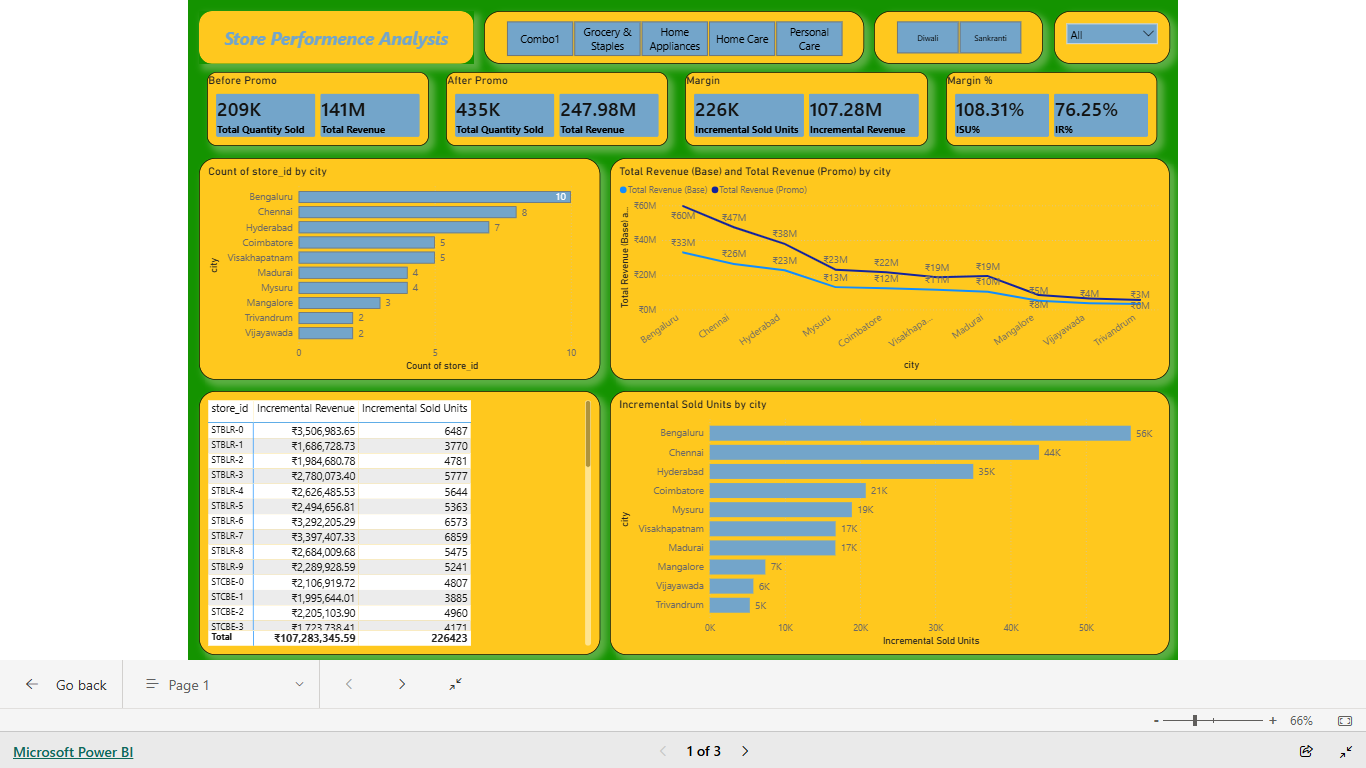

Layout of this report page (visuals, bound fields, positions):
{"tool":"powerbi","page":{"name":"Page 1","canvas":[1500,1000],"ordinal":0},"visuals":[{"type":"cardVisual","title":"Before Promo","fields":{"Data":["New_measures.Total Quantity (Base)","New_measures.Total Revenue (Base)"]},"box":[28.3,108.3,336,112],"z":0},{"type":"shape","box":[16,16,416,80],"z":1000},{"type":"slicer","fields":{"Values":["dim_products.category"]},"box":[448,16,576,80],"z":2000},{"type":"slicer","fields":{"Values":["dim_stores.city"]},"box":[1312,16,176,80],"z":3000},{"type":"slicer","fields":{"Values":["dim_campaigns.campaign_name"]},"box":[1040,16,256,80],"z":4000},{"type":"cardVisual","title":"After Promo","fields":{"Data":["New_measures.Total Quantity (Promo)","New_measures.Total Revenue (Promo)"]},"box":[391,108.3,336,112],"z":5000},{"type":"cardVisual","title":"Margin","fields":{"Data":["New_measures.Incremental Sold Units","New_measures.Incremental Revenue"]},"box":[753.7,108.3,368,112],"z":6000},{"type":"cardVisual","title":"Margin %","fields":{"Data":["New_measures.ISU%","New_measures.IR%"]},"box":[1148.3,108.3,320,112],"z":7000},{"type":"lineChart","fields":{"Category":["dim_stores.city"],"Y":["New_measures.Total Revenue (Base)","New_measures.Total Revenue (Promo)"]},"box":[640,240,848,336],"z":8000},{"type":"clusteredBarChart","fields":{"Category":["dim_stores.city"],"Y":["Count(dim_stores.store_id)"]},"box":[16,240,608,336],"z":9000},{"type":"clusteredBarChart","fields":{"Category":["dim_stores.city"],"Y":["New_measures.Incremental Sold Units"]},"box":[640,592,848,400],"z":10000},{"type":"pivotTable","fields":{"Rows":["dim_stores.store_id"],"Values":["New_measures.Incremental Revenue","New_measures.Incremental Sold Units"]},"box":[16,592,608,400],"z":11000}]}

Visuals, with their boxes on the page's 1500x1000 design canvas (x1, y1, x2, y2). These are canvas units, not pixel positions in the 1366x768 screenshot, which may show the page scaled, cropped or inside an application window:
"Before Promo" cardVisual: x1=28, y1=108, x2=364, y2=220
shape: x1=16, y1=16, x2=432, y2=96
slicer - dim_products.category: x1=448, y1=16, x2=1024, y2=96
slicer - dim_stores.city: x1=1312, y1=16, x2=1488, y2=96
slicer - dim_campaigns.campaign_name: x1=1040, y1=16, x2=1296, y2=96
"After Promo" cardVisual: x1=391, y1=108, x2=727, y2=220
"Margin" cardVisual: x1=754, y1=108, x2=1122, y2=220
"Margin %" cardVisual: x1=1148, y1=108, x2=1468, y2=220
lineChart - dim_stores.city x New_measures.Total Revenue (Base): x1=640, y1=240, x2=1488, y2=576
clusteredBarChart - dim_stores.city x Count(dim_stores.store_id): x1=16, y1=240, x2=624, y2=576
clusteredBarChart - dim_stores.city x New_measures.Incremental Sold Units: x1=640, y1=592, x2=1488, y2=992
pivotTable - dim_stores.store_id x New_measures.Incremental Revenue: x1=16, y1=592, x2=624, y2=992
